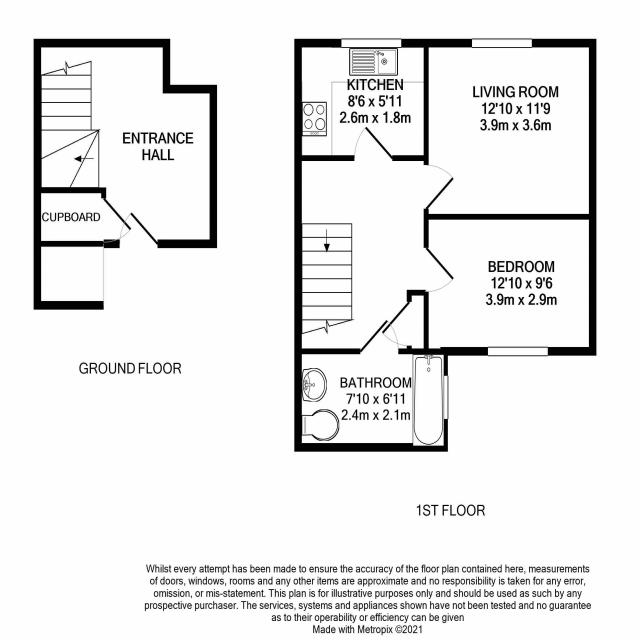DOOR: (422, 244, 457, 295), (351, 123, 395, 163), (358, 316, 402, 356), (422, 163, 457, 212), (117, 209, 159, 249), (379, 299, 413, 348)
ROOM: (423, 38, 597, 220), (423, 214, 597, 356), (294, 38, 429, 162)
WINDOW: (486, 345, 550, 358), (340, 37, 403, 50), (471, 37, 533, 49), (443, 375, 449, 420)
